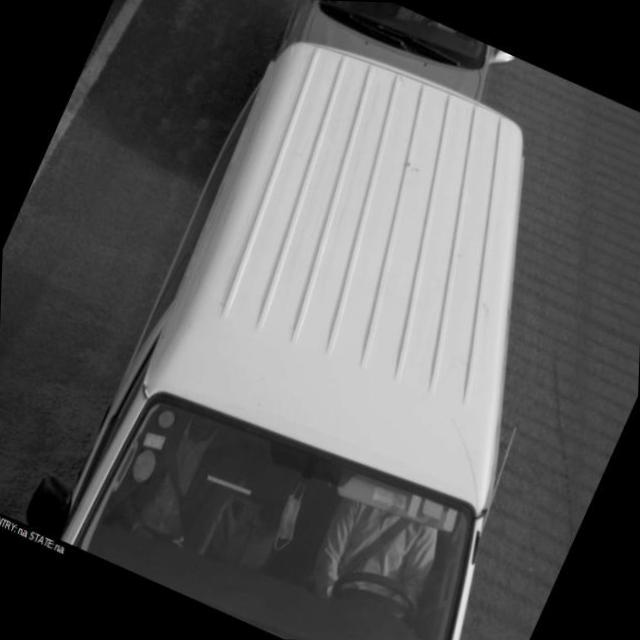person_with_seatbelt: (292, 468, 471, 640)
